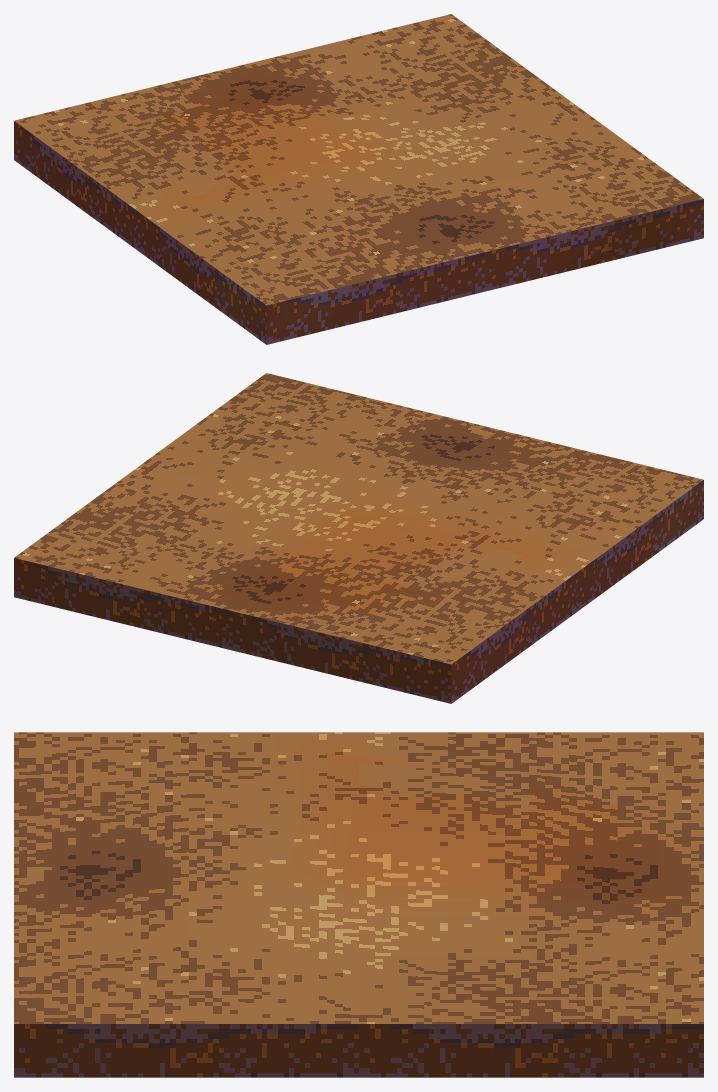
The model's file is planet.ground__plateau.glb.
3 views of the same model, one above another, from view 1: azimuth 30°, elevation 25°; view 2: azimuth 150°, elevation 25°; view 3: azimuth 270°, elevation 25° (orthographic). The views are drawn at different scales.
Parts seen in each view (by area): view 1: kit_ground; view 2: kit_ground; view 3: kit_ground.
Part boxes in pixels (x1,y1,x2,y2): kit_ground: (14,14,703,344); kit_ground: (14,373,703,703); kit_ground: (14,732,703,1077).
Bounding box in the file's own units: 8 × 0.8153 × 8.
Materials: 2 (2 with a texture image).
